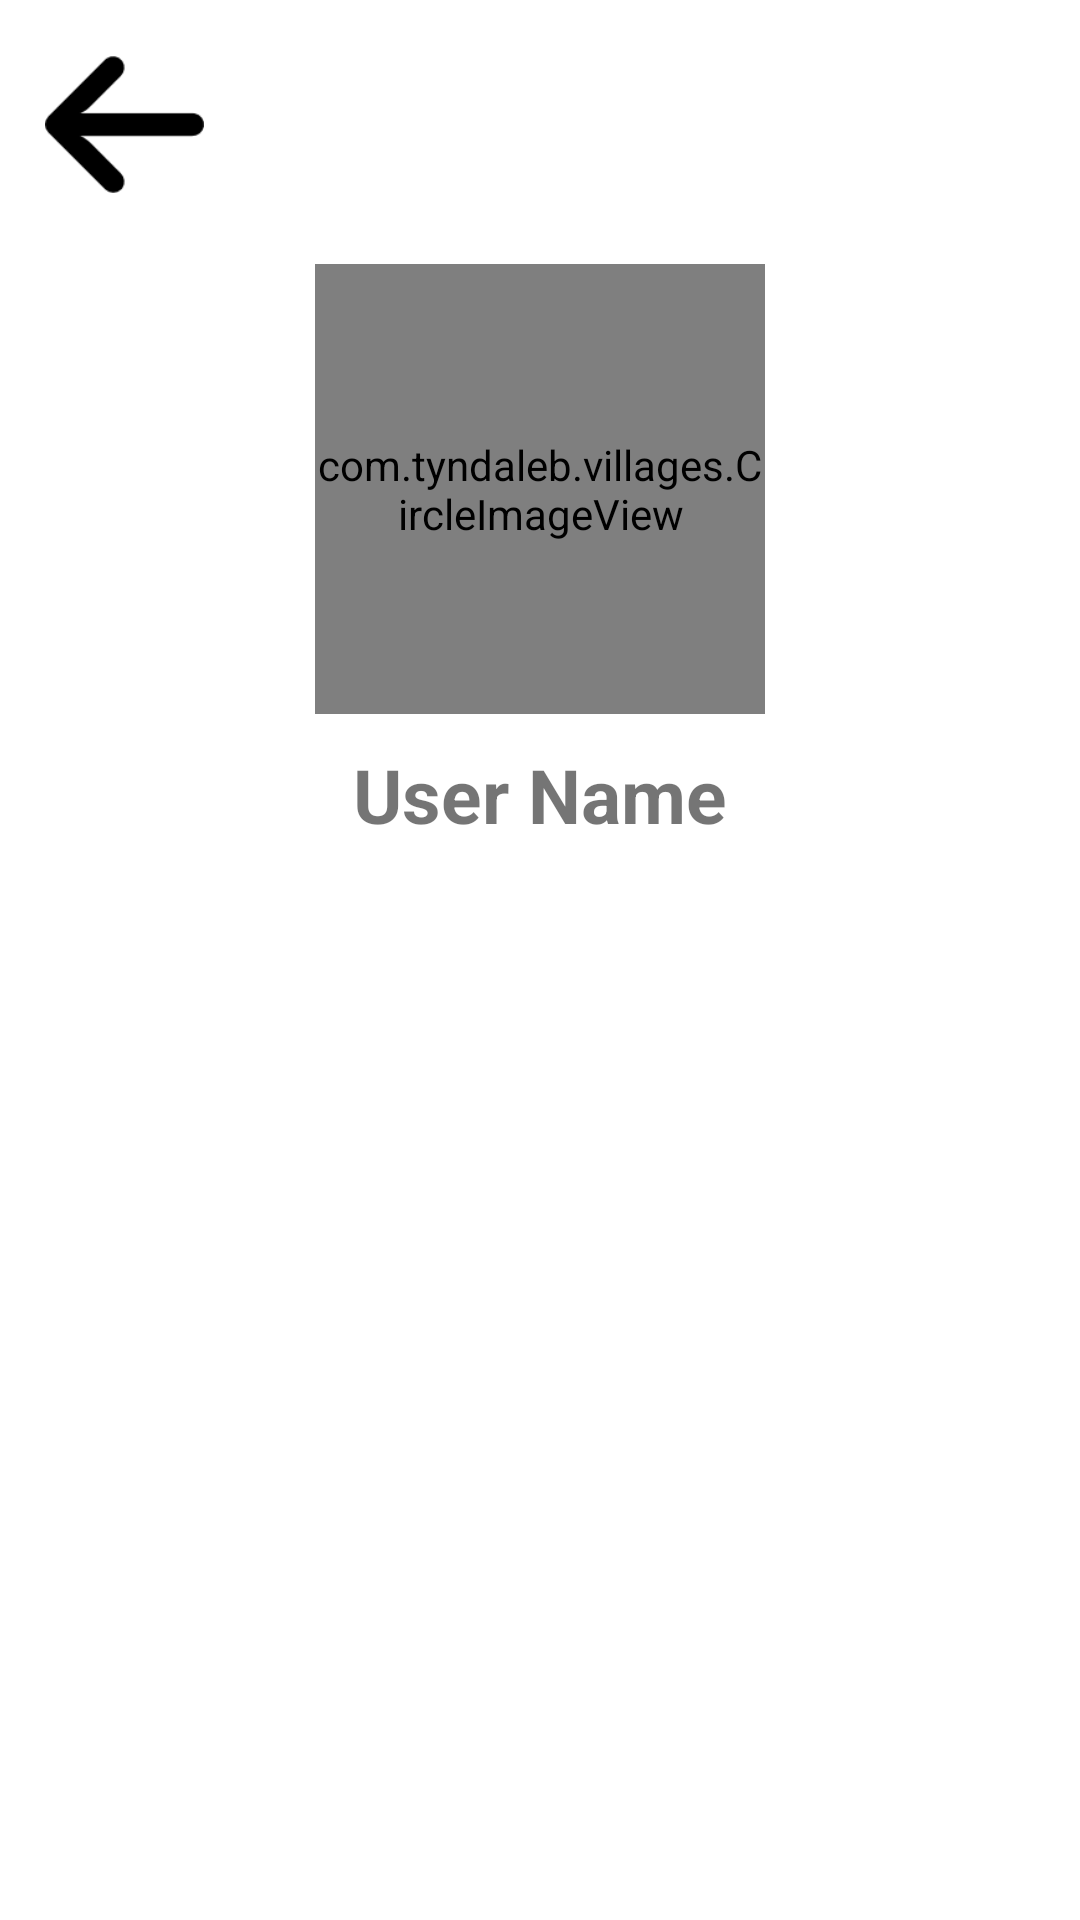

Icon bounding boxes for this 1080px x 1920px phone screenshot, format (x1, y1, x2, y2):
left arrow: (45, 56, 204, 193)
